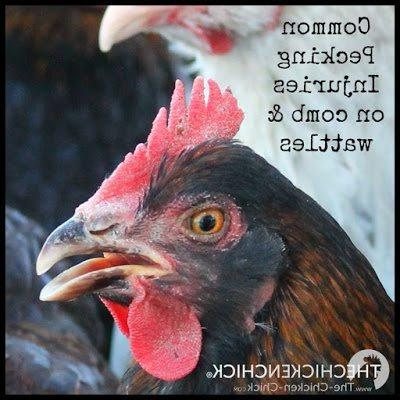AbNormal: (84, 75, 245, 218)
